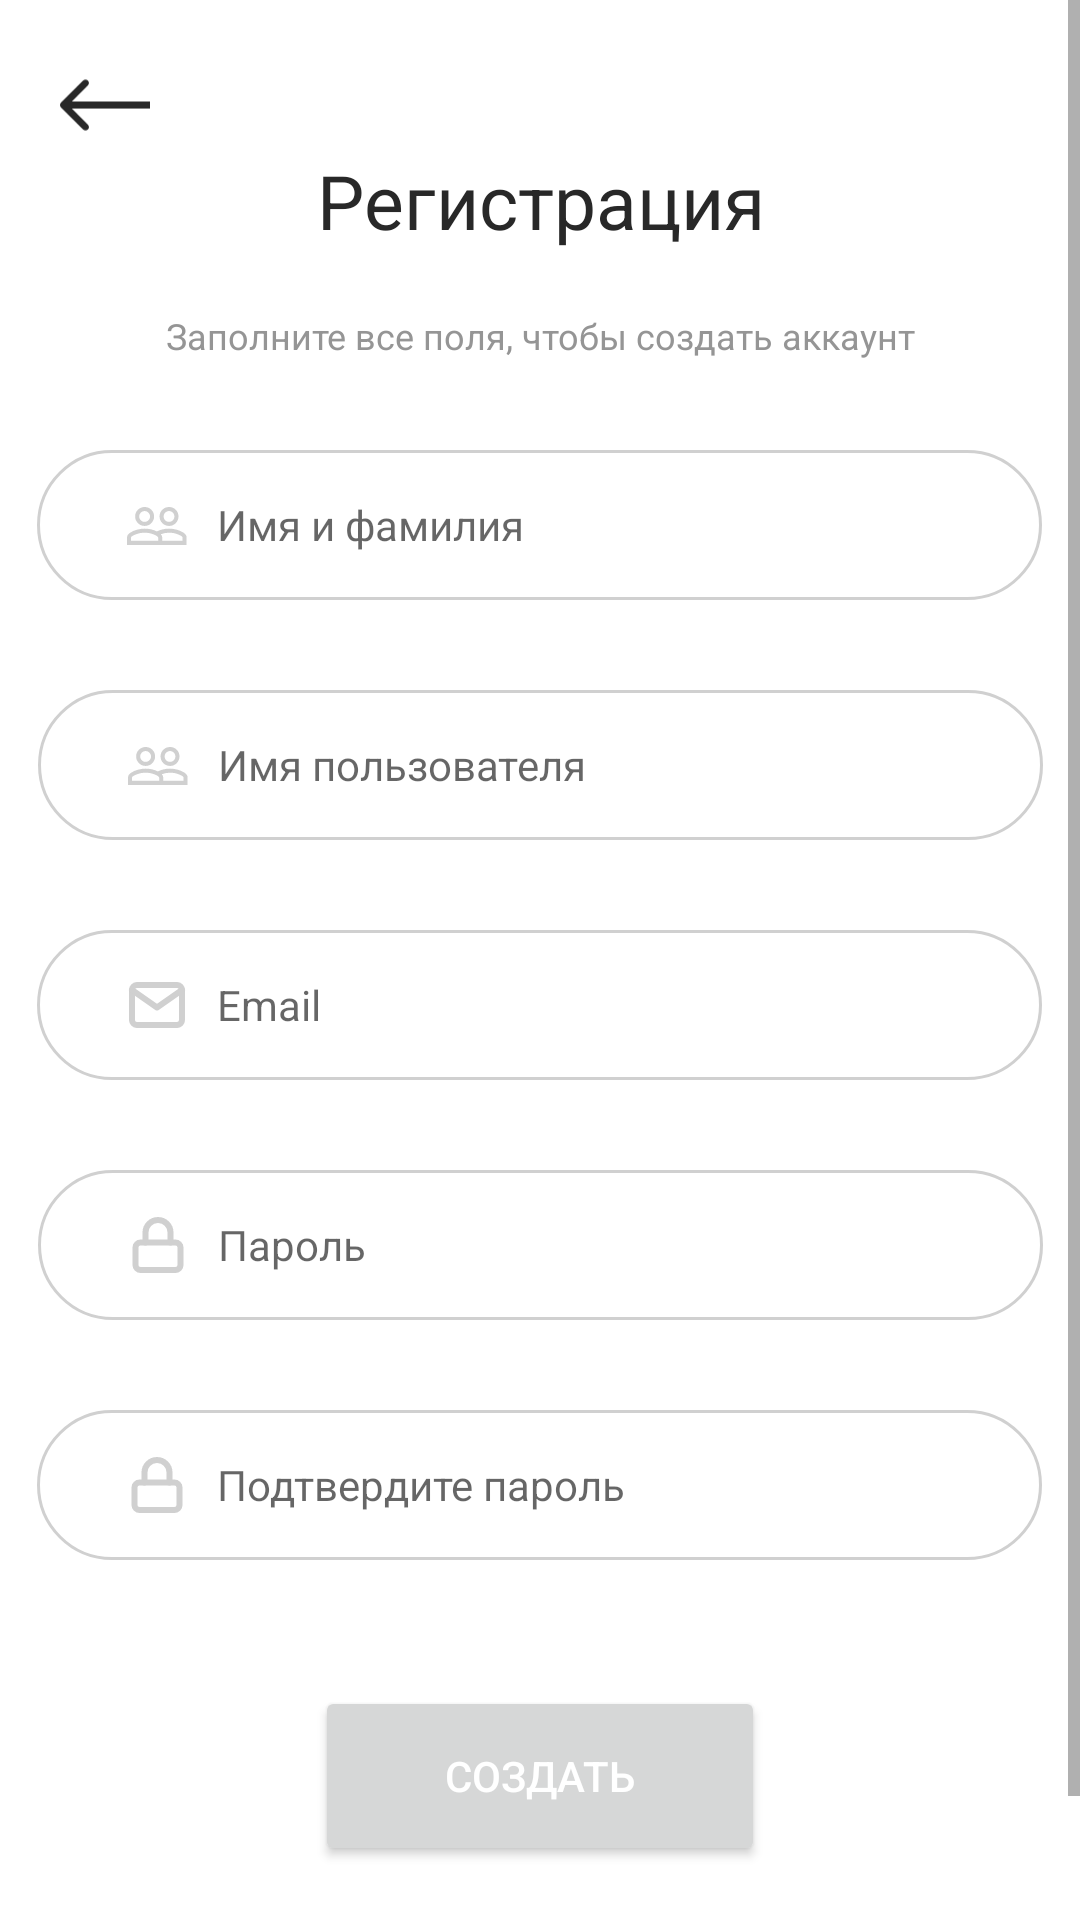

Where to tap for icons on this 1080*1920 app screen, as (x=x, y=y):
go back: (x=105, y=105)
